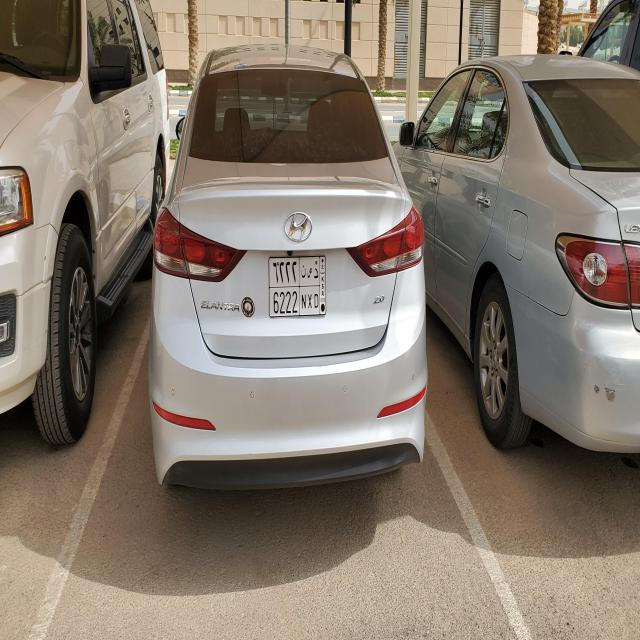license_plate: (269, 256, 327, 318)
